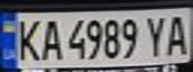4: (63, 16, 87, 61)
8: (103, 16, 124, 61)
9: (81, 16, 106, 61), (118, 15, 142, 60)
A: (163, 11, 193, 56), (36, 16, 63, 62)
K: (9, 16, 45, 62)
Y: (142, 12, 172, 59)
